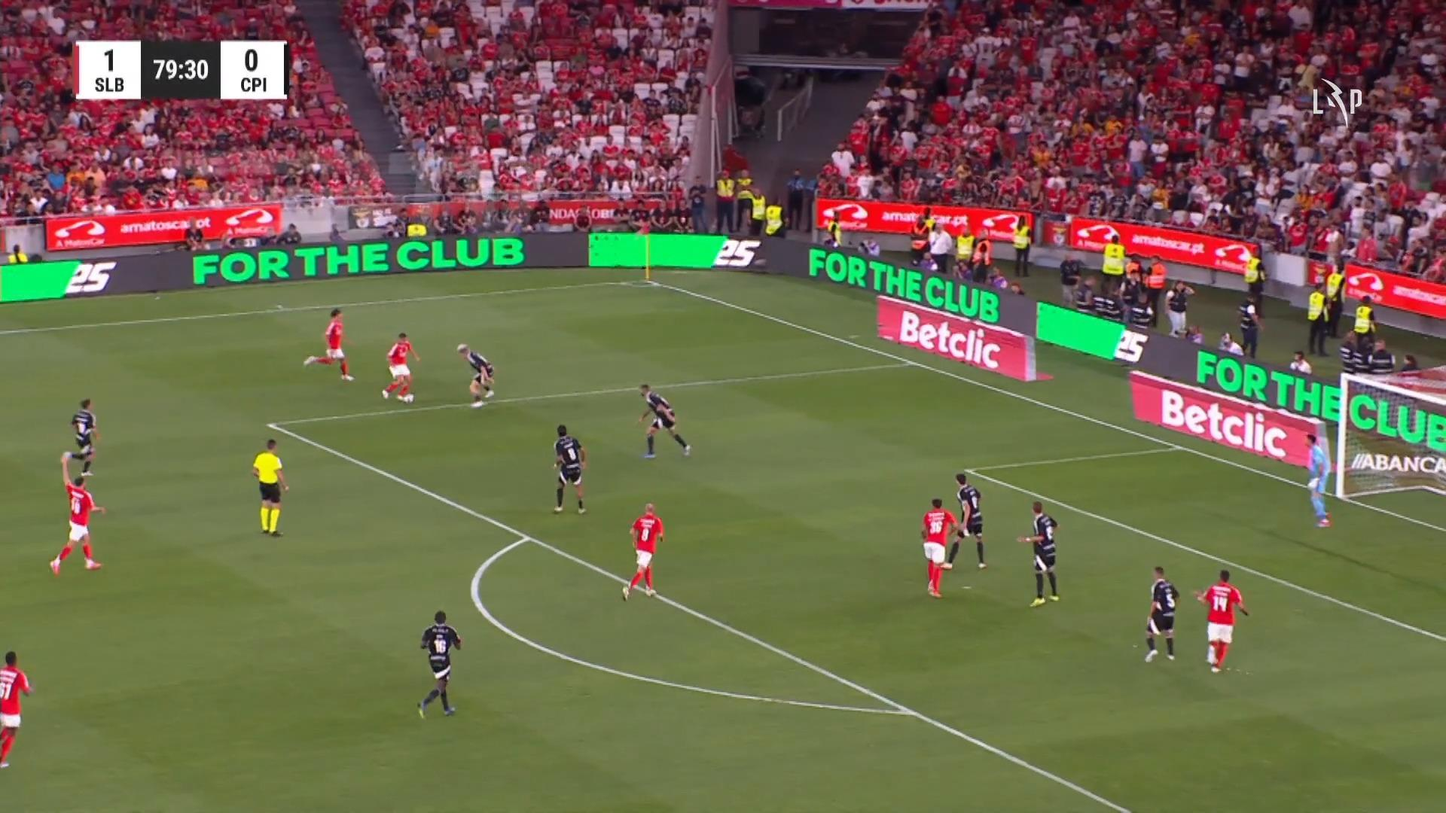ball: (403, 391, 416, 405)
goalkeeper: (1303, 431, 1332, 528)
player: (48, 451, 106, 575), (1192, 568, 1249, 672), (416, 609, 462, 718), (1016, 500, 1060, 606), (940, 471, 987, 569), (620, 502, 665, 601), (920, 497, 962, 598), (637, 382, 691, 459), (302, 306, 355, 381), (0, 649, 33, 768), (1143, 565, 1179, 662), (551, 424, 587, 514), (381, 331, 420, 403), (456, 343, 495, 408), (68, 397, 99, 477)
referee: (251, 437, 289, 536)
